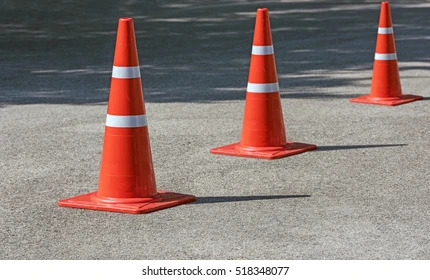cones: (73, 16, 196, 212), (217, 6, 314, 160), (354, 1, 422, 106)
